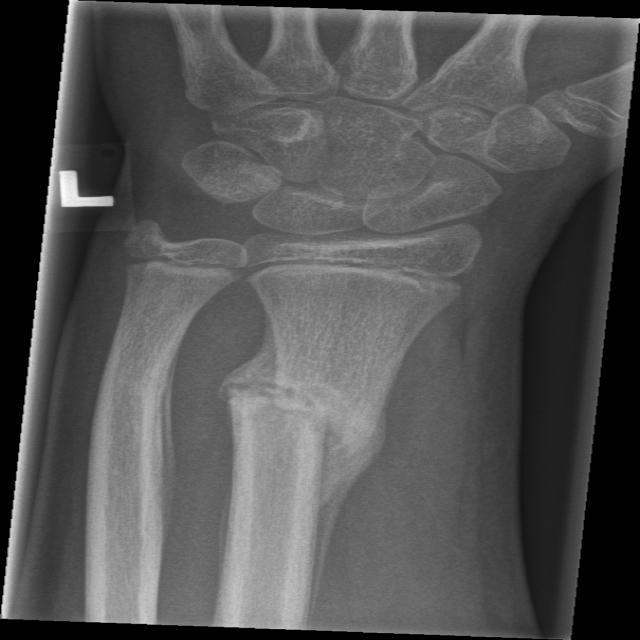radius fracture: (209, 332, 411, 542)
ulna fracture: (84, 326, 202, 524)
